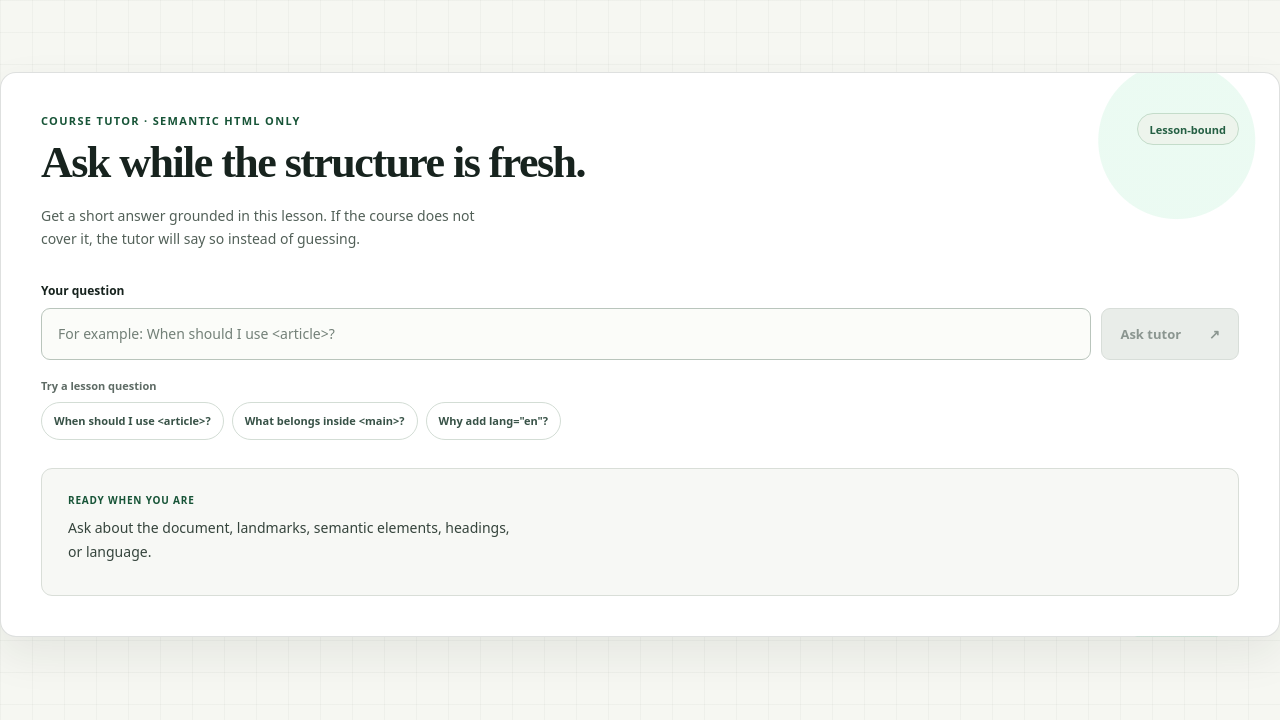
Scenario: SemanticHtmlTutor › answers a supported lesson question with its source and self-check
Click the button "What belongs inside <main>?": [325, 421] box [232,402,418,440]
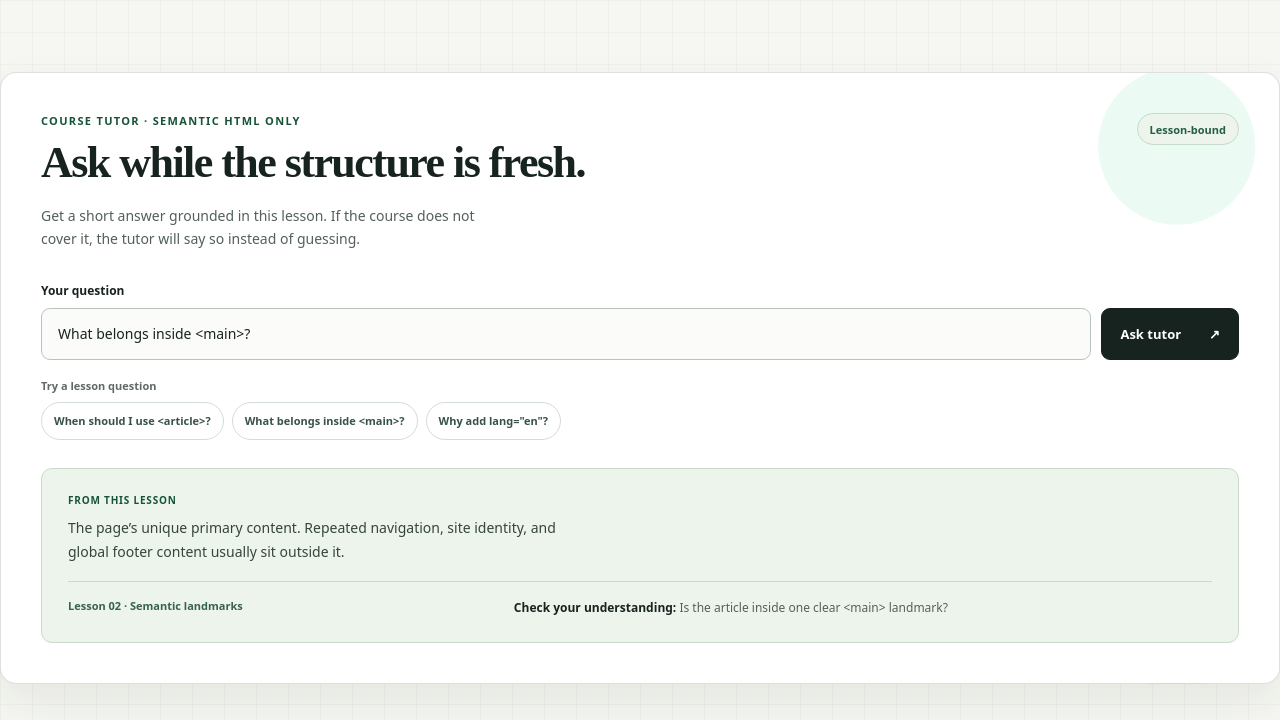
Check: the message shows "From this lesson", box [68,493,177,507]
Check: the message shows "The page’s unique primary content.", box [68,518,556,561]
Check: the message shows "Lesson 02 · Semantic landmarks", box [68,598,243,613]
